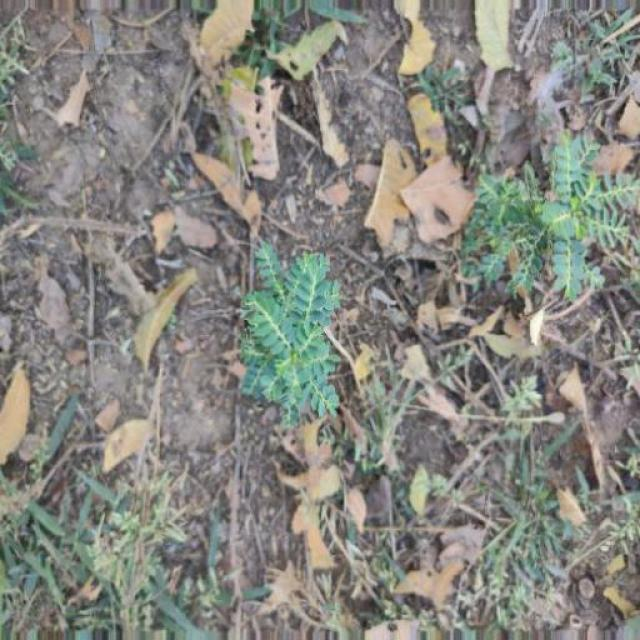weed: (466, 138, 630, 322), (228, 244, 348, 440)
